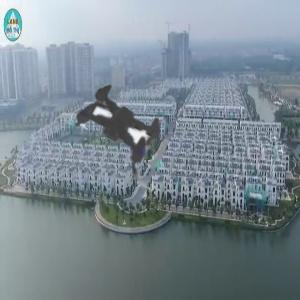drone: (17, 20, 219, 222)
